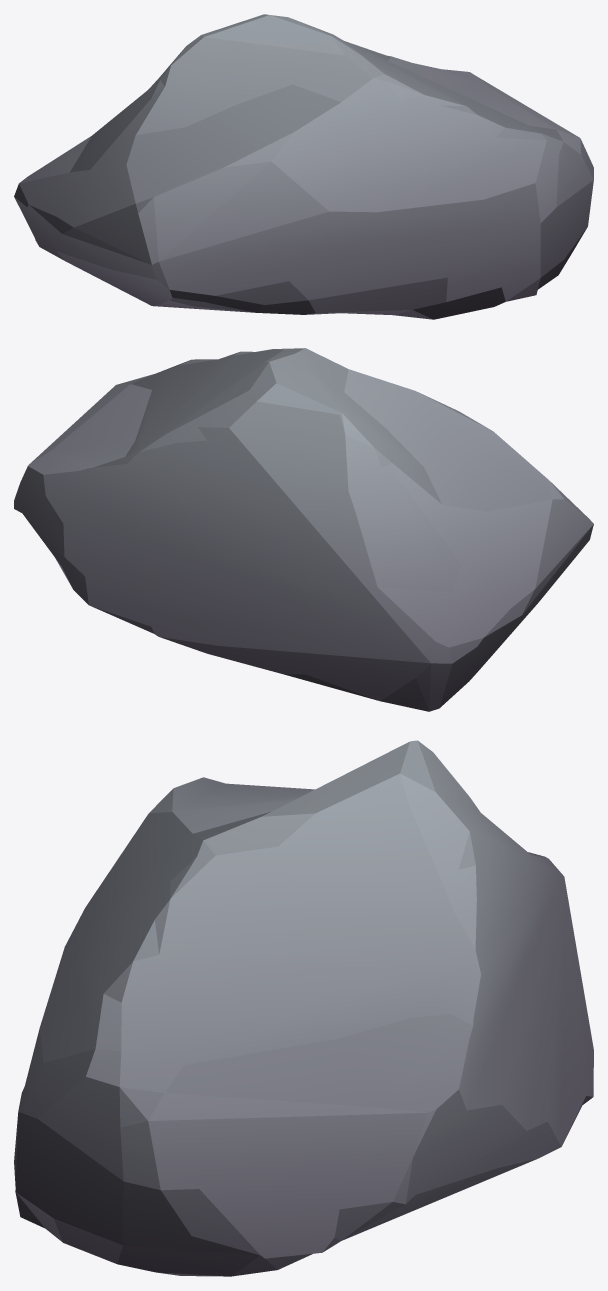
Rendered from rock_2_03.fbx.
3 renders of one model, top to bottom at view 1: azimuth 30°, elevation 25°; view 2: azimuth 150°, elevation 25°; view 3: azimuth 270°, elevation 25°, orthographic. The views are drawn at different scales.
Parts seen in each view (by area): view 1: rock_2_03; view 2: rock_2_03; view 3: rock_2_03.
Part boxes in pixels (x1,y1,x2,y2): rock_2_03: [14, 14, 593, 319]; rock_2_03: [14, 348, 593, 711]; rock_2_03: [14, 740, 593, 1276].
Bounding box in the file's own units: 79.63 × 38.76 × 55.8.
